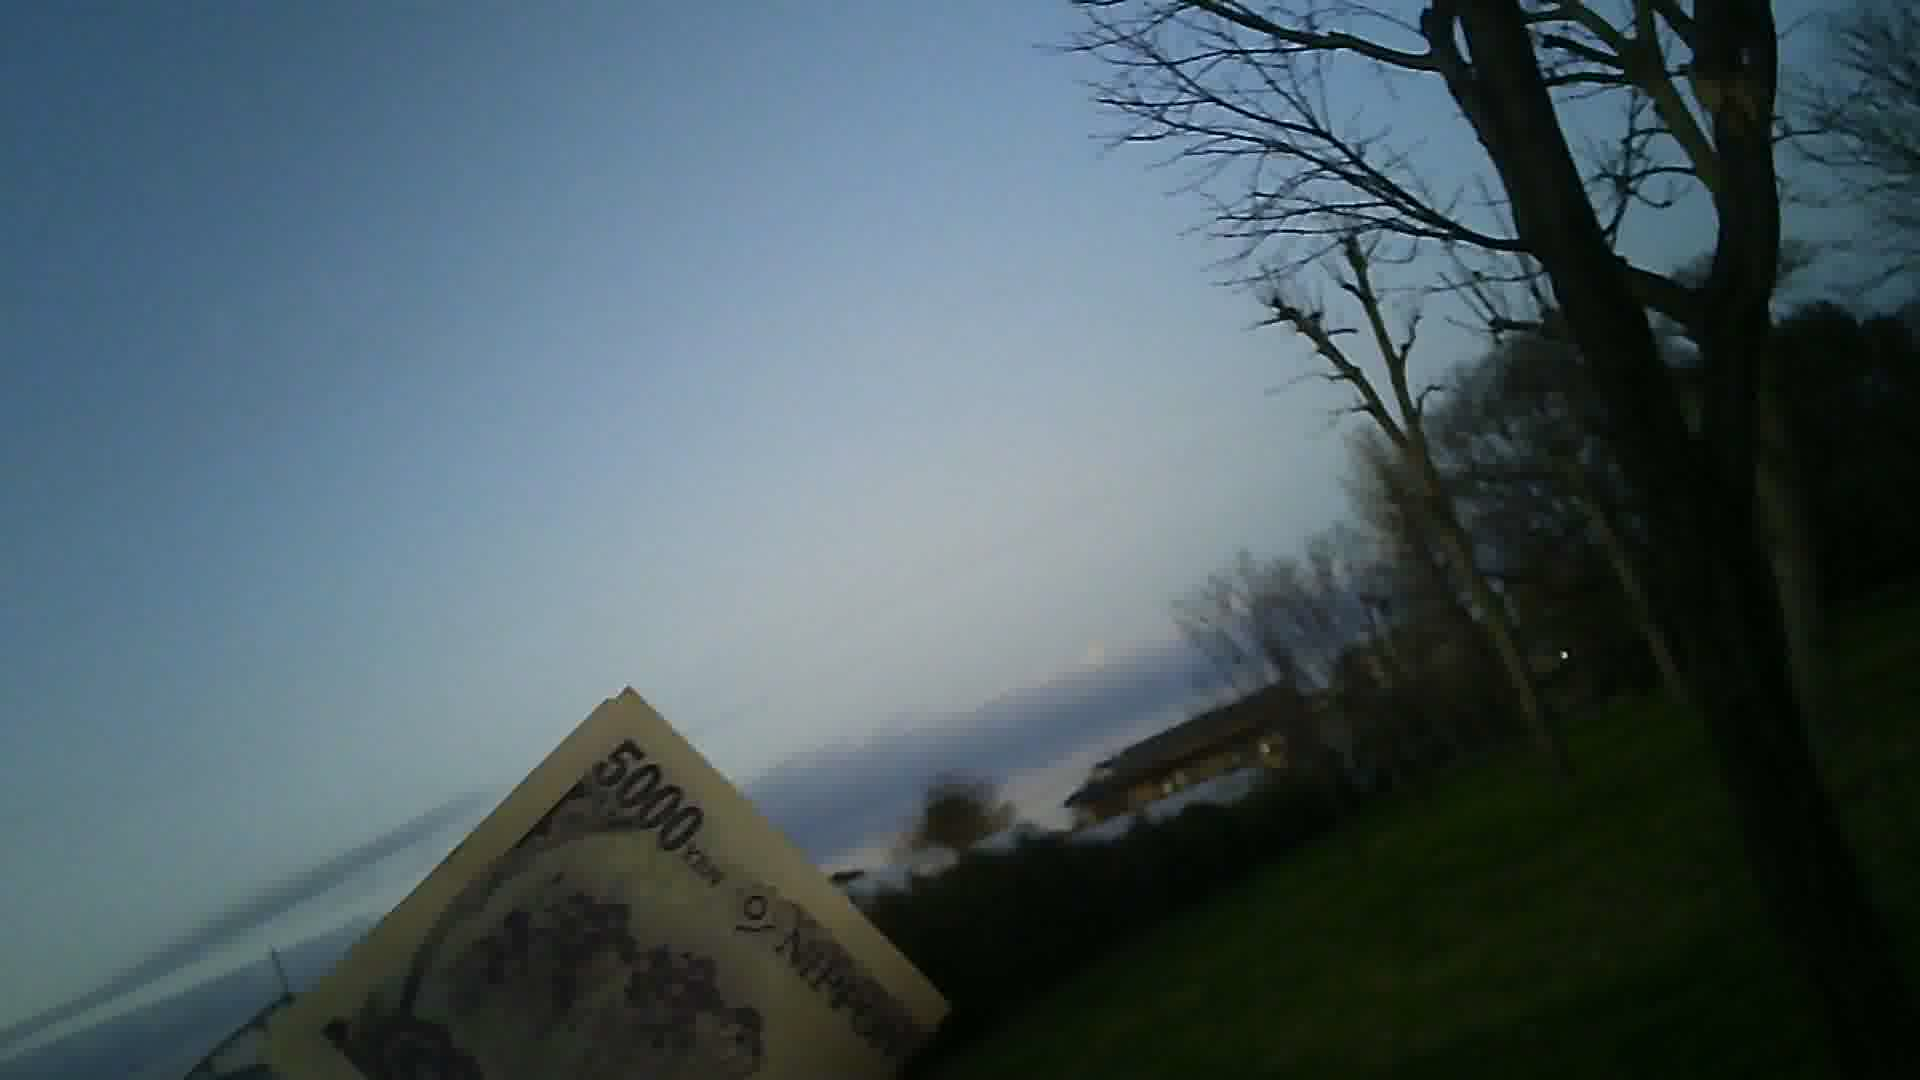5,000 Yen: (258, 678, 957, 1069)
